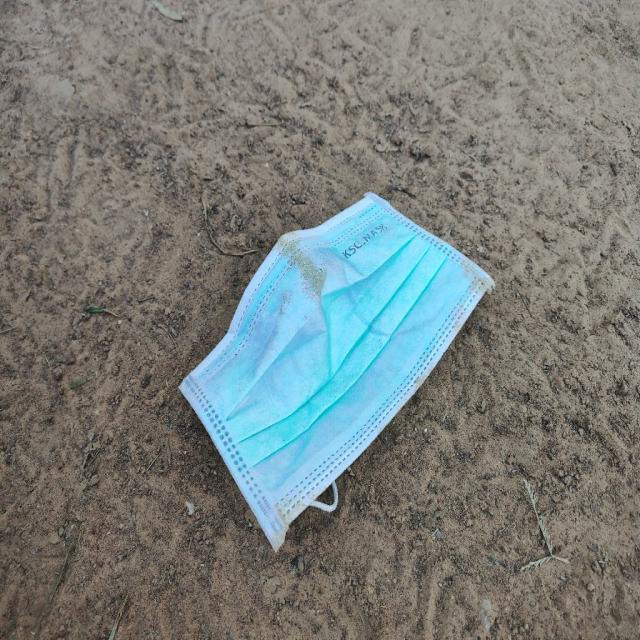non-organic waste: (176, 190, 490, 552)
